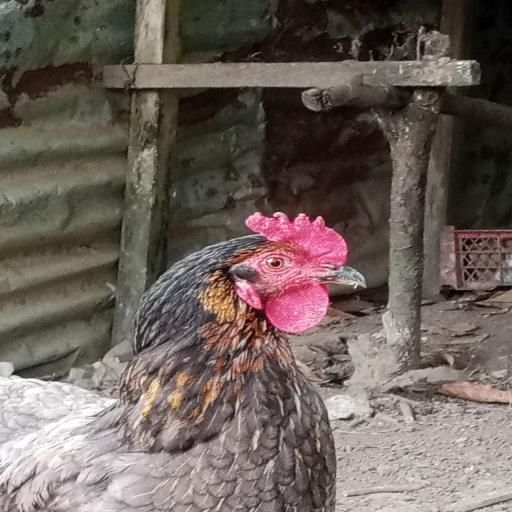disease: (244, 206, 345, 253)
